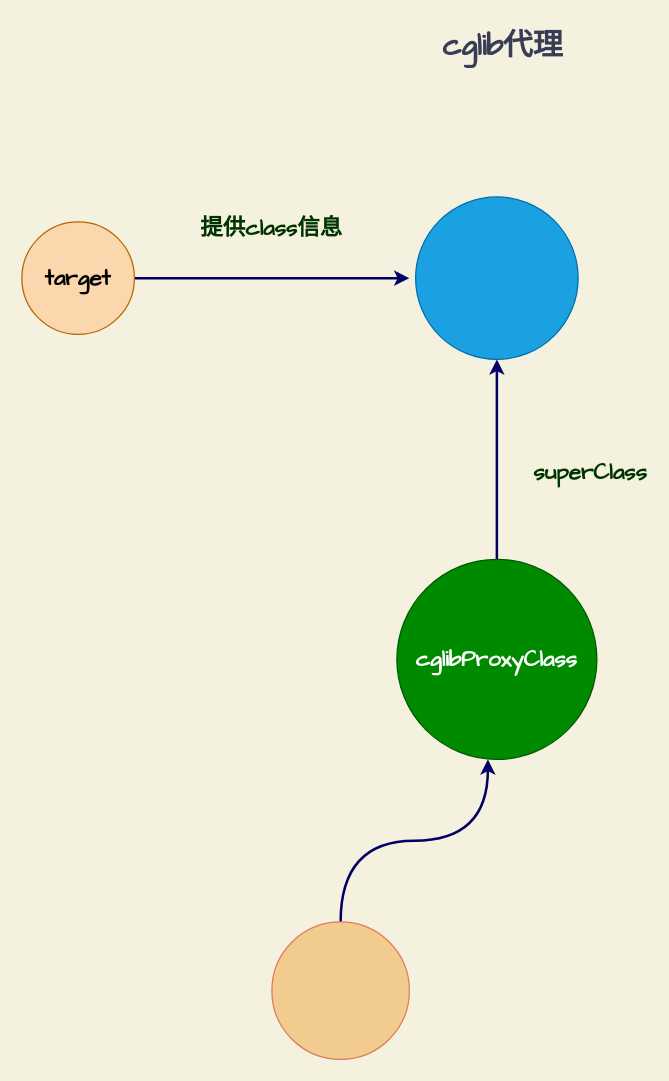
The diagram is 669 pixels wide and 1081 high, and some of its shapes have lost their labels. The shapes that lost their labels are listed below. From the top down, each one's box as (x1, y1, x2, y2) in pixels, then its label:
(414, 196, 578, 359): targetClass
(271, 921, 409, 1059): cglibObject
